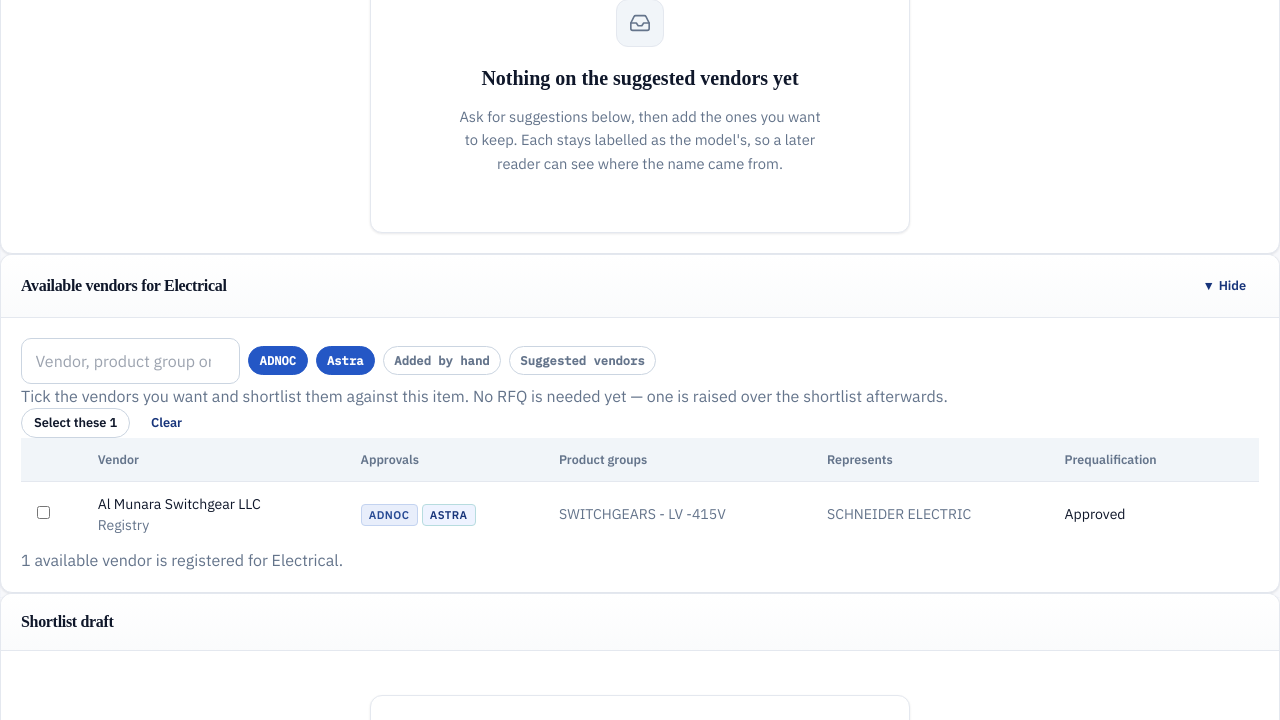
ItemDetail › will not let the last approval be unticked
(page scrolled)
Click the button "Astra".
click(345, 361)  # box [316,346,375,375]
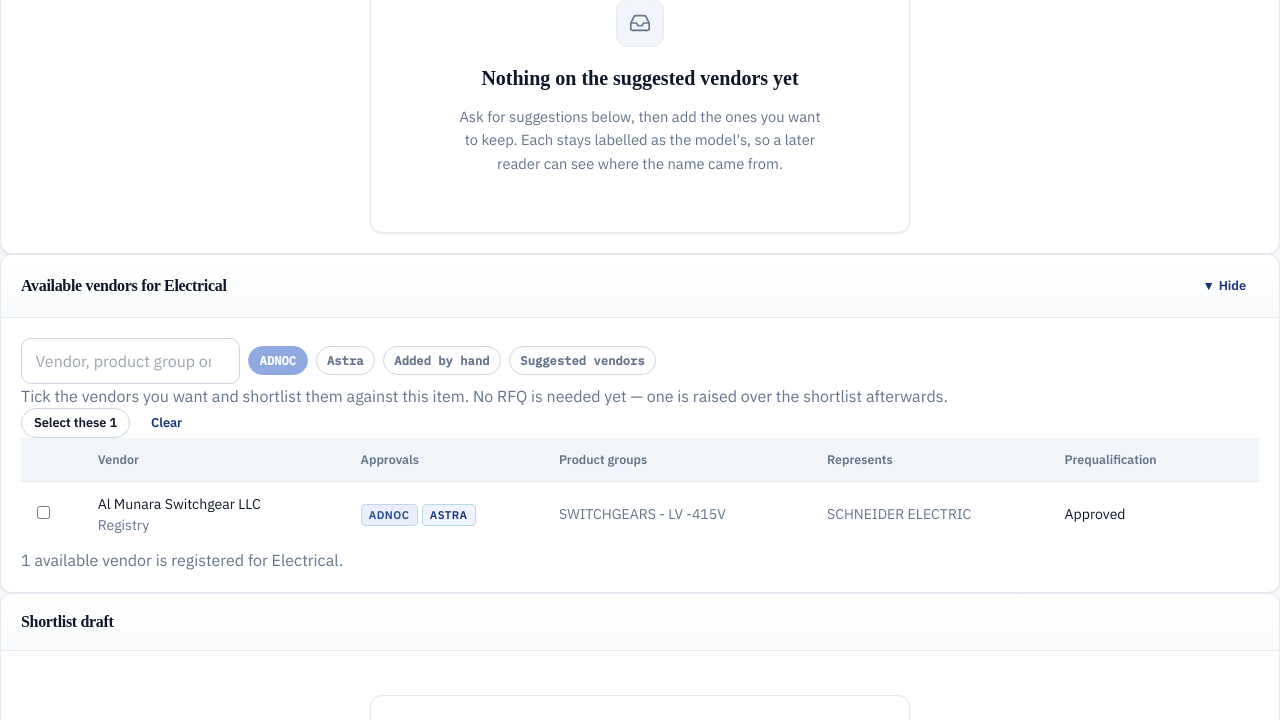
Result: the button "ADNOC" is disabled at [248,346,308,375]
